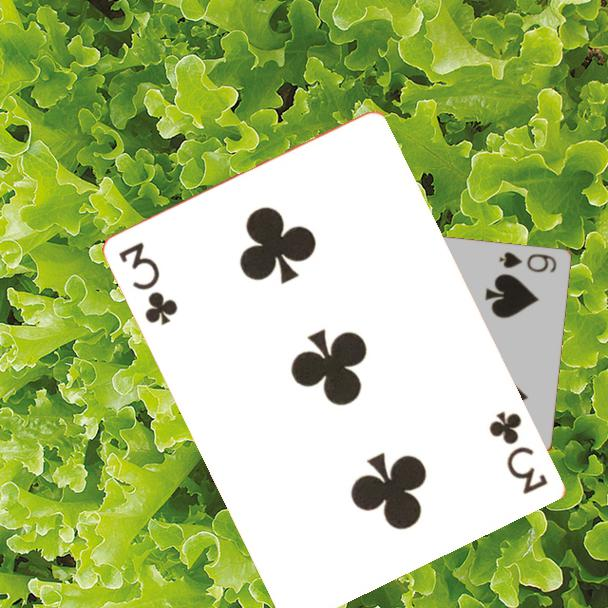c03: (485, 407, 552, 498), (115, 239, 182, 329)
s06: (496, 248, 560, 275)
